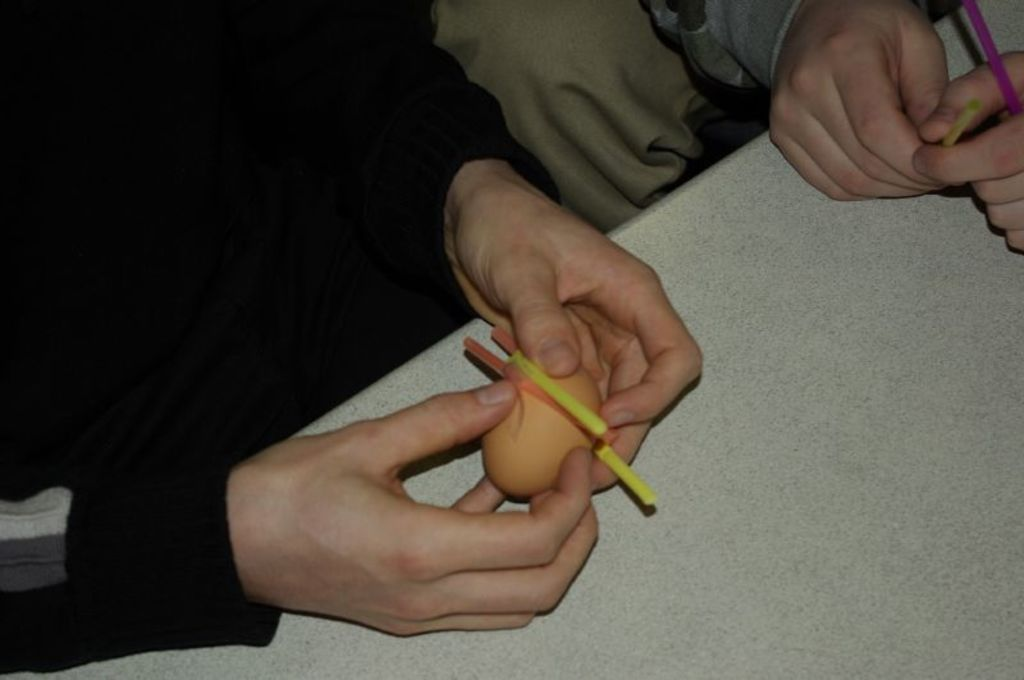Human_hand: (230, 376, 600, 635), (447, 175, 709, 489), (774, 0, 1015, 200), (911, 46, 1023, 251)
